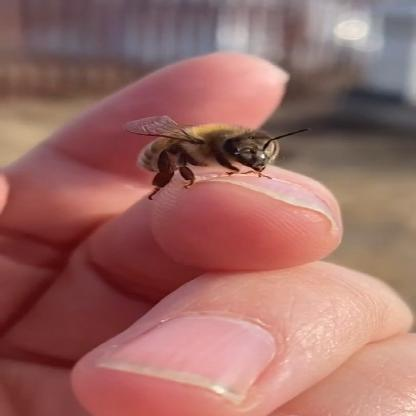bee: (63, 88, 305, 197)
